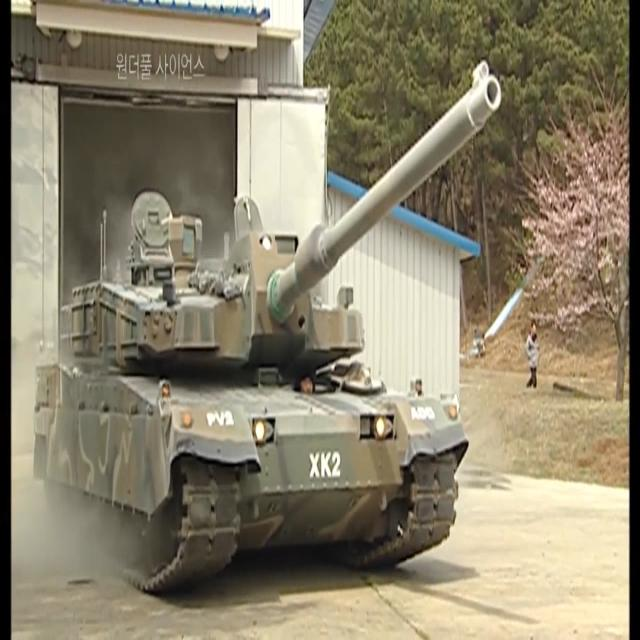korea tank: (29, 55, 503, 596)
